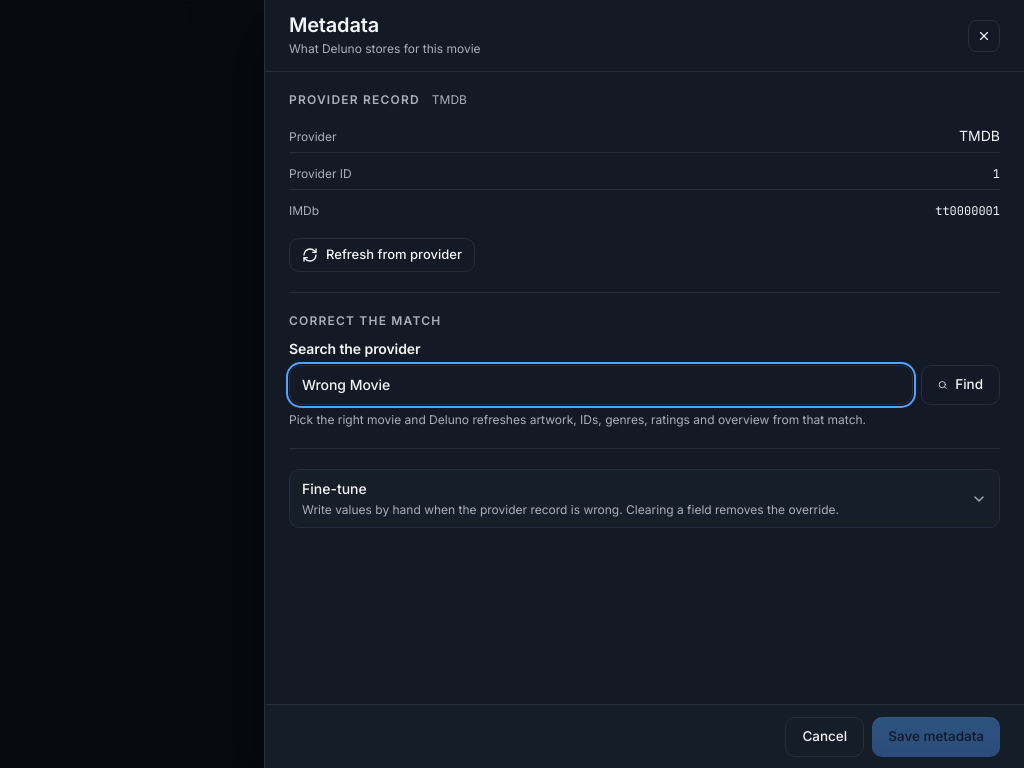
Test case: MediaMetadataDrawer remap review › shows a held-title conflict and never enables apply
The width and height of the screenshot is (1024, 768).
Click the button "Find" at point(960, 385), box [921,365,1000,405]
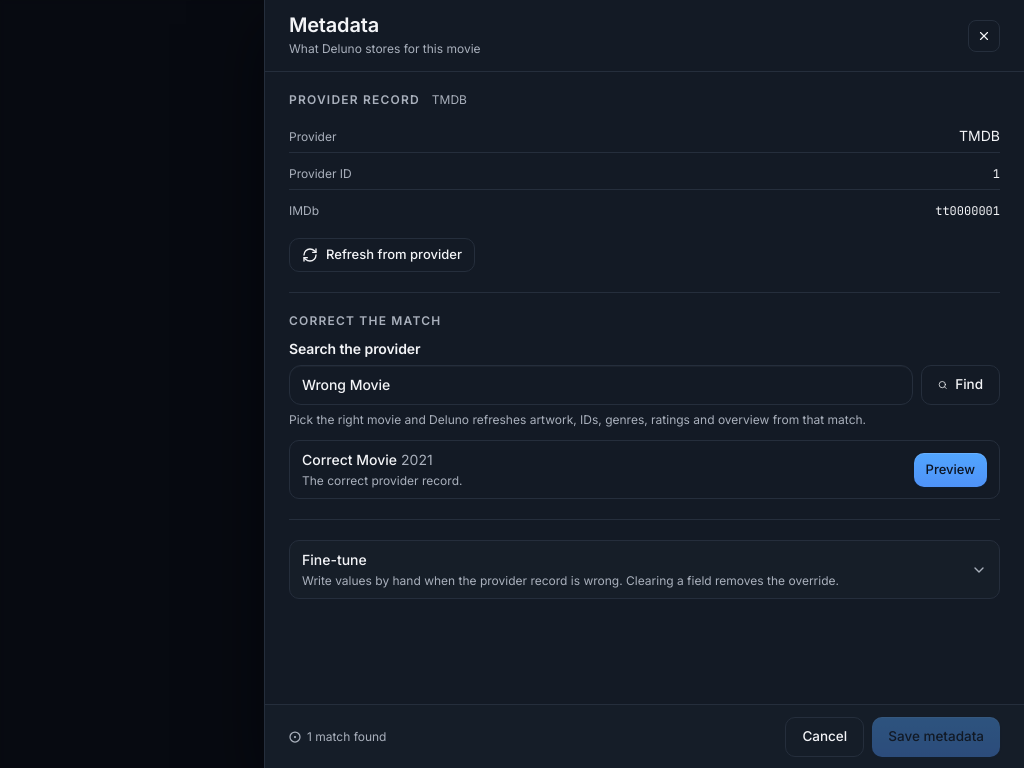
Click the button "Preview" at point(950, 470), box [914,453,987,487]
(page scrolled)
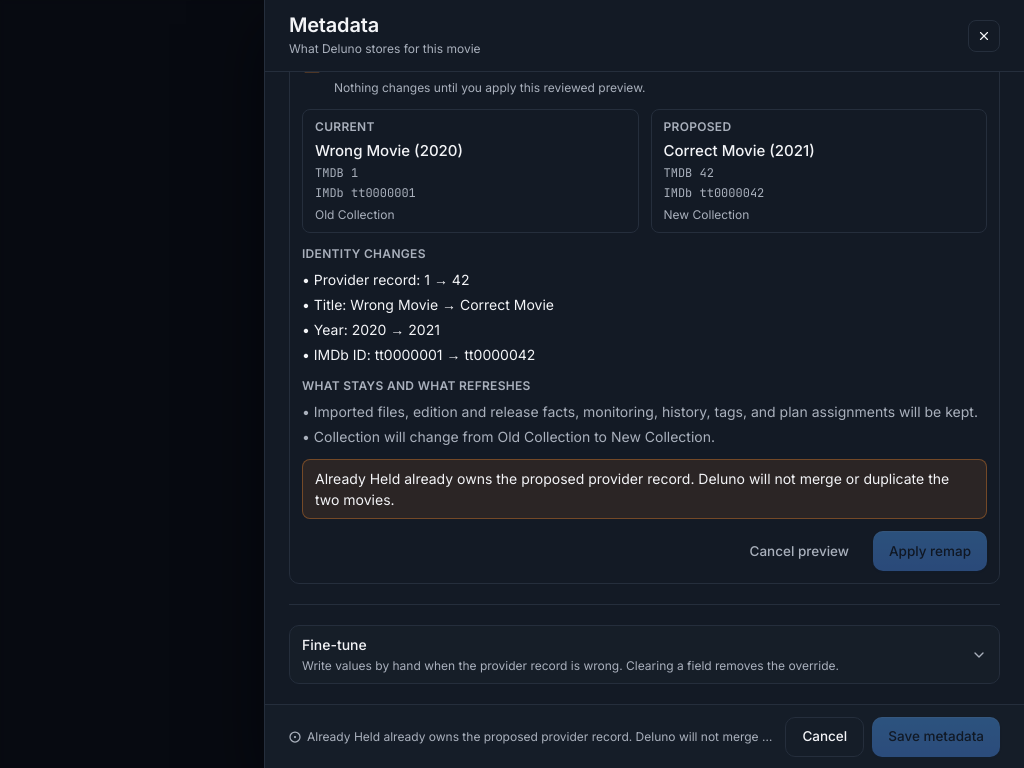
expect the text "will not merge or duplicate" below "What stays and what refreshes" is shown: met, box [315,470,949,508]
expect the button "Apply remap" is disabled: met, box [873,531,987,571]
